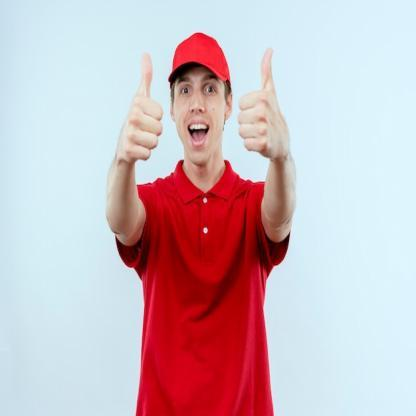thumb_up: (235, 43, 290, 167), (115, 50, 164, 168)
